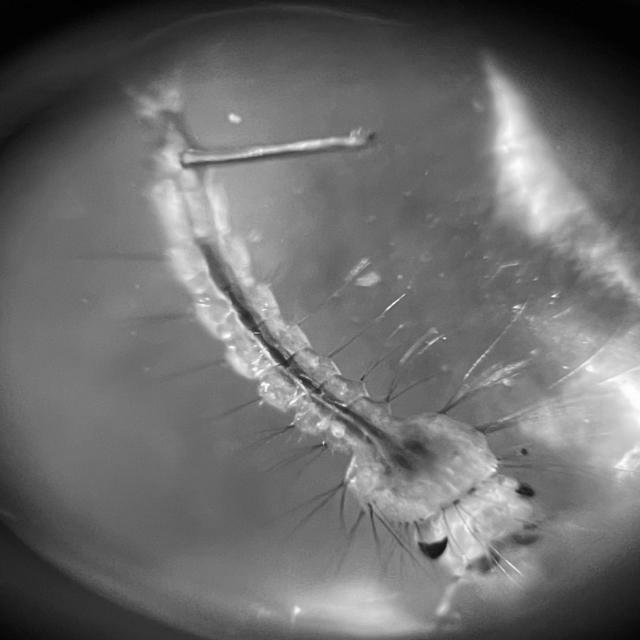larvas: (143, 94, 545, 578)
